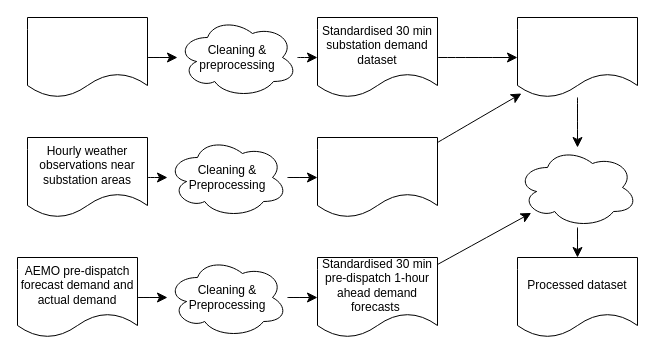
The diagram is 655 pixels wide and 355 high, and some of its shapes have lost their labels. The shapes that lost their labels are listed below. From the top down, each one's centre as x and y in pixels, then its label:
At [87,57]: "NSW substation demand".
At [577,57]: "Demand weighted temperature and dew point".
At [377,177]: "Standardised 30 min weather dataset".
At [577,187]: "Merge".
